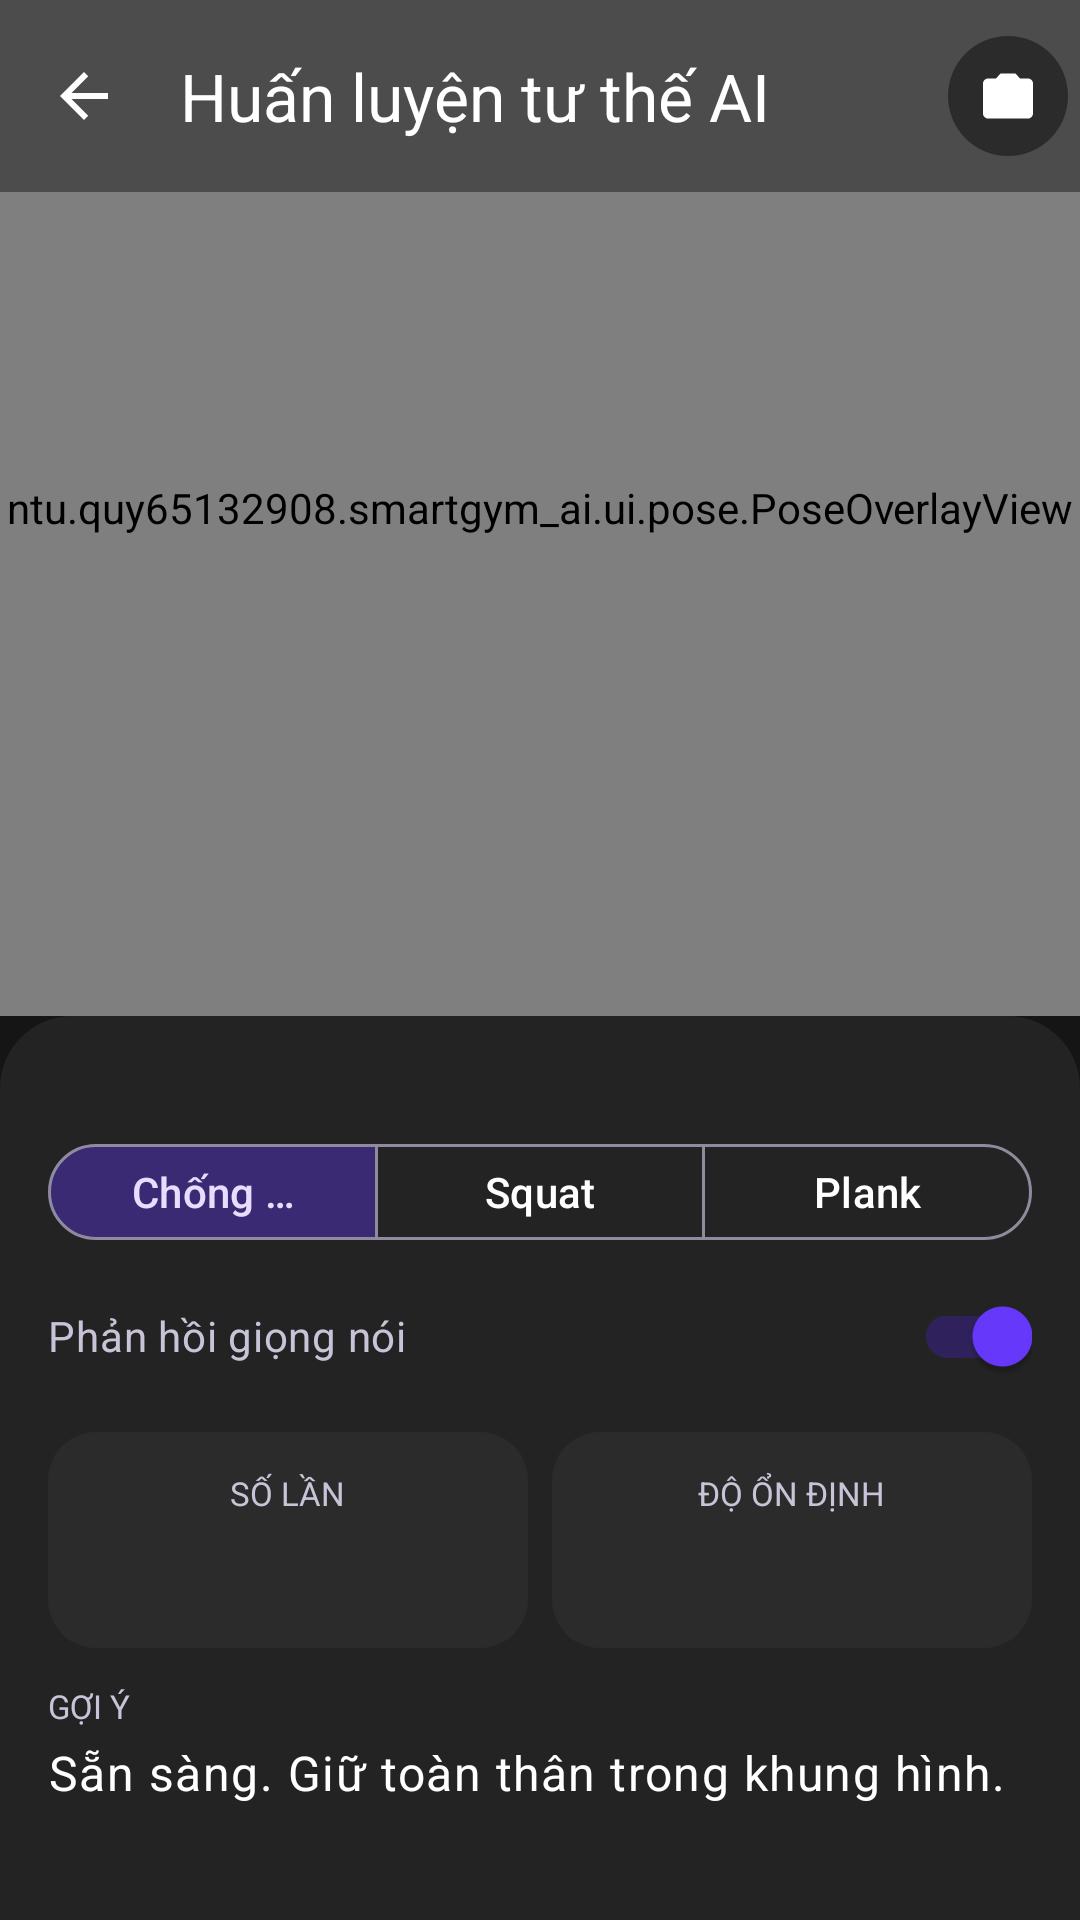

Where to tap for icons on this 1080px x 1920px app screen, as [x,y]:
Đổi camera: [1008,96]
